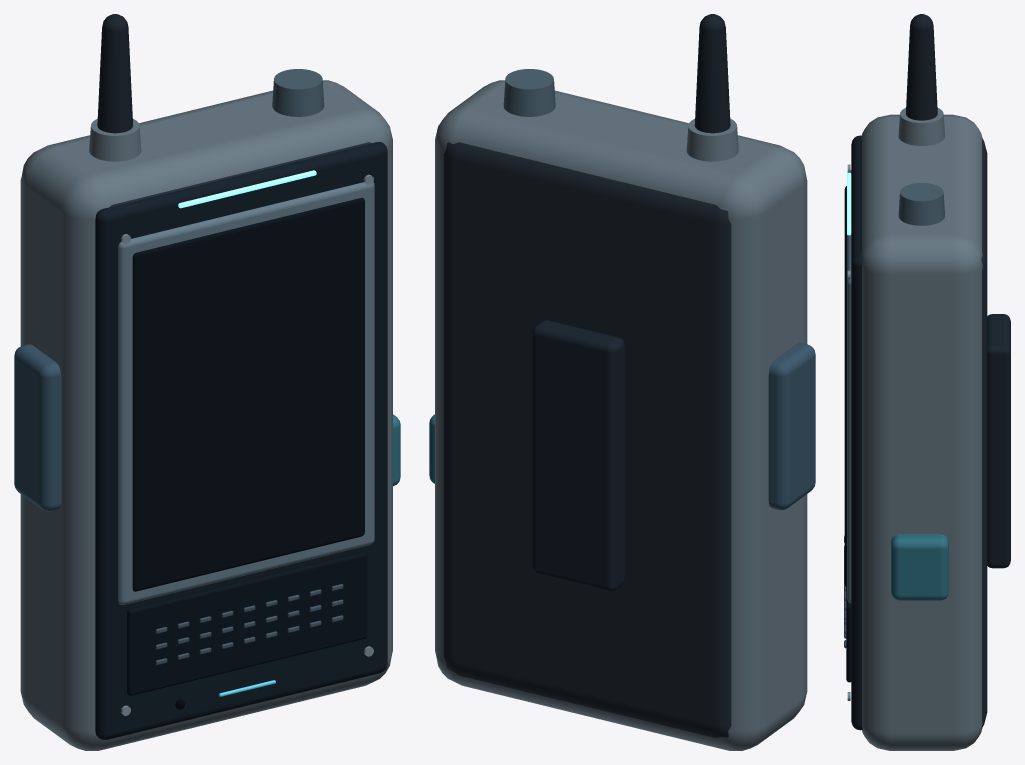
The model's file is xiaolu.glb.
3 renders of one model, left to right at view 1: azimuth 30°, elevation 25°; view 2: azimuth 150°, elevation 25°; view 3: azimuth 270°, elevation 25°, orthographic. The views are drawn at different scales.
Visible parts, largest first — view 1: screen, frame, face, speaker-panel, screen-bezel, ptt, antenna, power, antenna-base, indicator, body; view 2: body, frame, clip, ptt, antenna, power, antenna-base; view 3: frame, face, clip, command, body, antenna, screen-bezel, power, antenna-base, screen, speaker-panel, antenna-cap (+1 smaller).
Part boxes in pixels (<box>): screen: <box>132,197,364,591</box>; frame: <box>20,80,392,750</box>; face: <box>95,142,387,739</box>; speaker-panel: <box>127,552,367,695</box>; screen-bezel: <box>118,182,374,604</box>; ptt: <box>14,344,61,511</box>; antenna: <box>97,27,132,133</box>; power: <box>272,69,324,116</box>; antenna-base: <box>89,119,141,161</box>; indicator: <box>178,170,316,208</box>; body: <box>110,142,371,207</box>; body: <box>443,142,731,738</box>; frame: <box>435,80,807,750</box>; clip: <box>532,320,624,591</box>; ptt: <box>768,342,815,509</box>; antenna: <box>694,27,730,133</box>; power: <box>503,69,555,116</box>; antenna-base: <box>686,119,738,161</box>; frame: <box>861,114,982,750</box>; face: <box>851,135,862,730</box>; clip: <box>987,314,1010,568</box>; command: <box>891,534,948,600</box>; body: <box>860,138,987,728</box>; antenna: <box>906,26,937,120</box>; screen-bezel: <box>847,170,851,603</box>; power: <box>898,183,944,225</box>; antenna-base: <box>898,108,945,145</box>; screen: <box>844,186,846,587</box>; speaker-panel: <box>846,587,851,682</box>; antenna-cap: <box>910,14,933,30</box>.
Size of the model in its own units: 2.05 by 3.85 by 0.9175.
